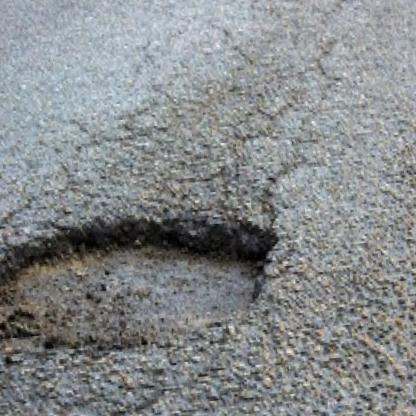pothole: (0, 202, 286, 365)
